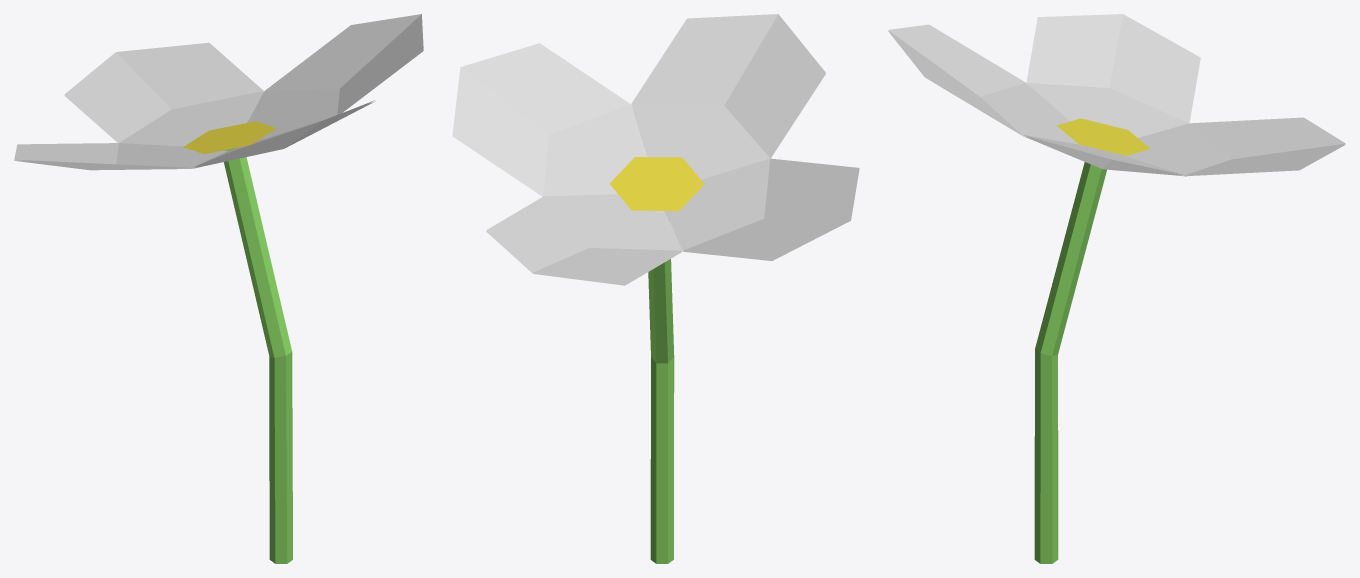
The model's file is simple_flower.fbx.
3 renders of one model, left to right at view 1: azimuth 30°, elevation 25°; view 2: azimuth 150°, elevation 25°; view 3: azimuth 270°, elevation 25°, orthographic. The views are drawn at different scales.
Parts seen in each view (by area): view 1: petals, stem, seed; view 2: petals, stem, seed; view 3: petals, stem, seed.
Boxes of the visible parts, box(x1,y1,x2,y2) form: petals: box(14, 14, 423, 170); stem: box(224, 148, 292, 563); seed: box(183, 121, 276, 154); petals: box(452, 14, 859, 285); stem: box(648, 212, 674, 563); seed: box(609, 157, 704, 210); petals: box(888, 14, 1345, 176); stem: box(1034, 162, 1106, 563); seed: box(1057, 118, 1150, 155).
Bounding box in the file's own units: 0.2106 × 0.259 × 0.2155.
